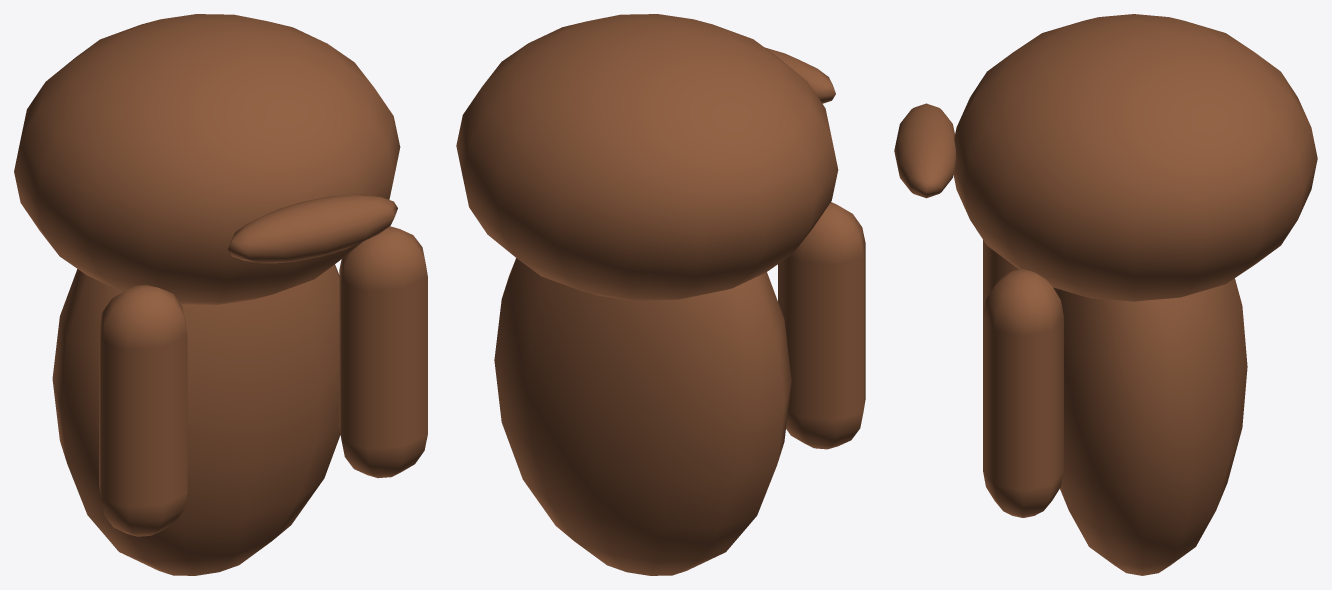
Rendered from hair_long.glb.
3 renders of one model, left to right at view 1: azimuth 30°, elevation 25°; view 2: azimuth 150°, elevation 25°; view 3: azimuth 270°, elevation 25°, orthographic.
Visible parts, largest first — view 1: Hair; view 2: Hair; view 3: Hair.
Boxes of the visible parts, bbox=[...] form: Hair: bbox=[14, 14, 427, 575]; Hair: bbox=[456, 14, 865, 575]; Hair: bbox=[894, 14, 1317, 575].
Bounding box in the file's own units: 14.06 × 21.14 × 15.43.
